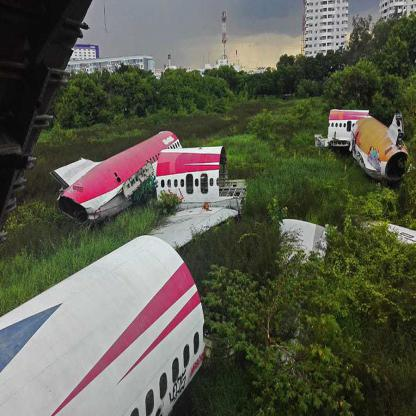CIV_Plane: (1, 226, 209, 412), (158, 136, 236, 214), (350, 120, 413, 190)
